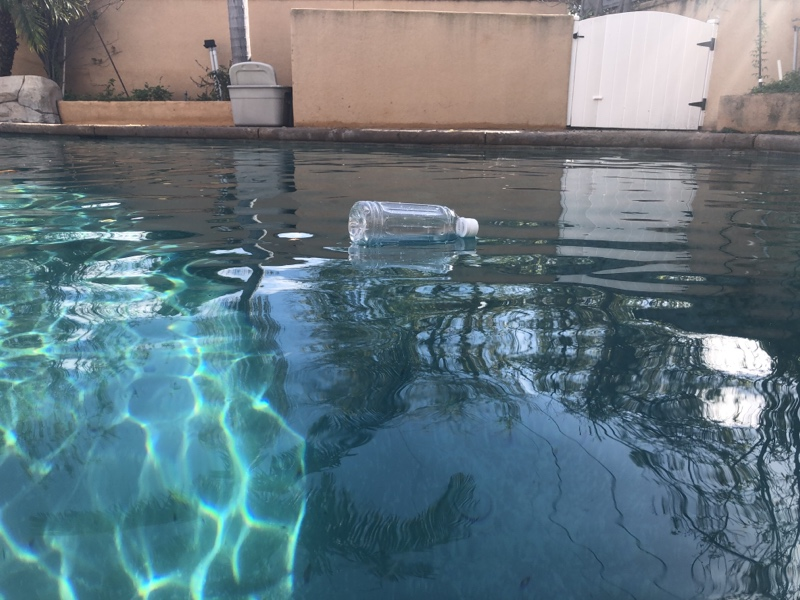Plastic Bottle: (346, 199, 481, 252)
